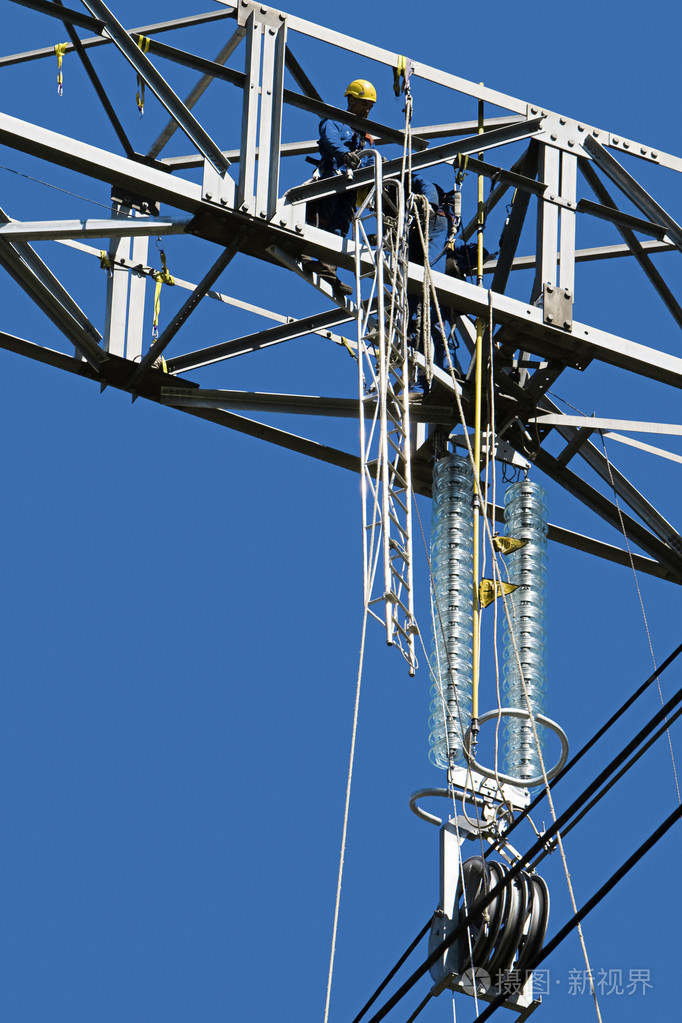insulator: (426, 457, 476, 763), (505, 481, 548, 780)
